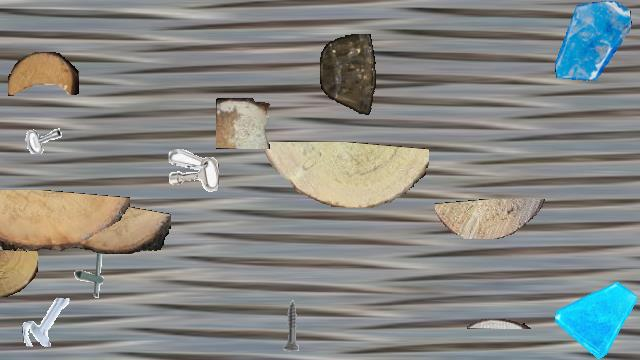glass: (555, 277, 637, 359), (553, 1, 633, 81)
metal: (264, 298, 318, 352), (12, 99, 66, 153), (66, 247, 118, 299), (168, 147, 218, 197), (22, 297, 72, 347)
plastic: (320, 34, 376, 116)
wood: (258, 142, 428, 208), (0, 190, 130, 252), (26, 202, 170, 254), (435, 199, 547, 239), (8, 52, 78, 96), (216, 98, 270, 148), (0, 250, 38, 296), (467, 319, 531, 329)
